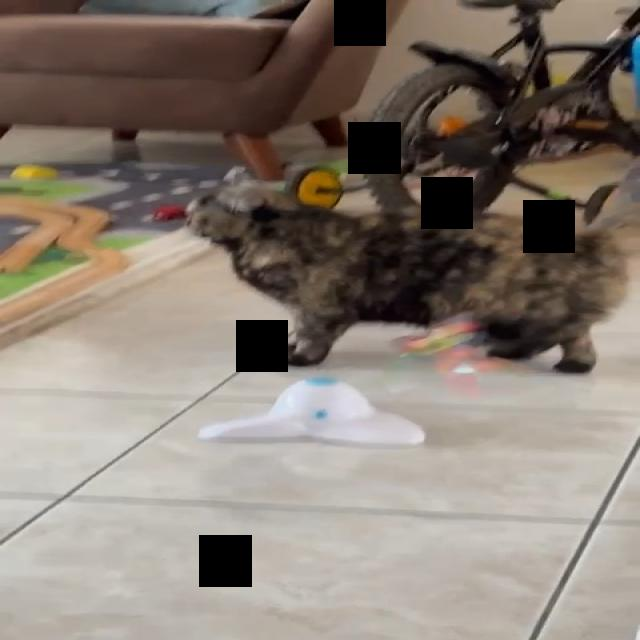authorized: (181, 180, 631, 373)
